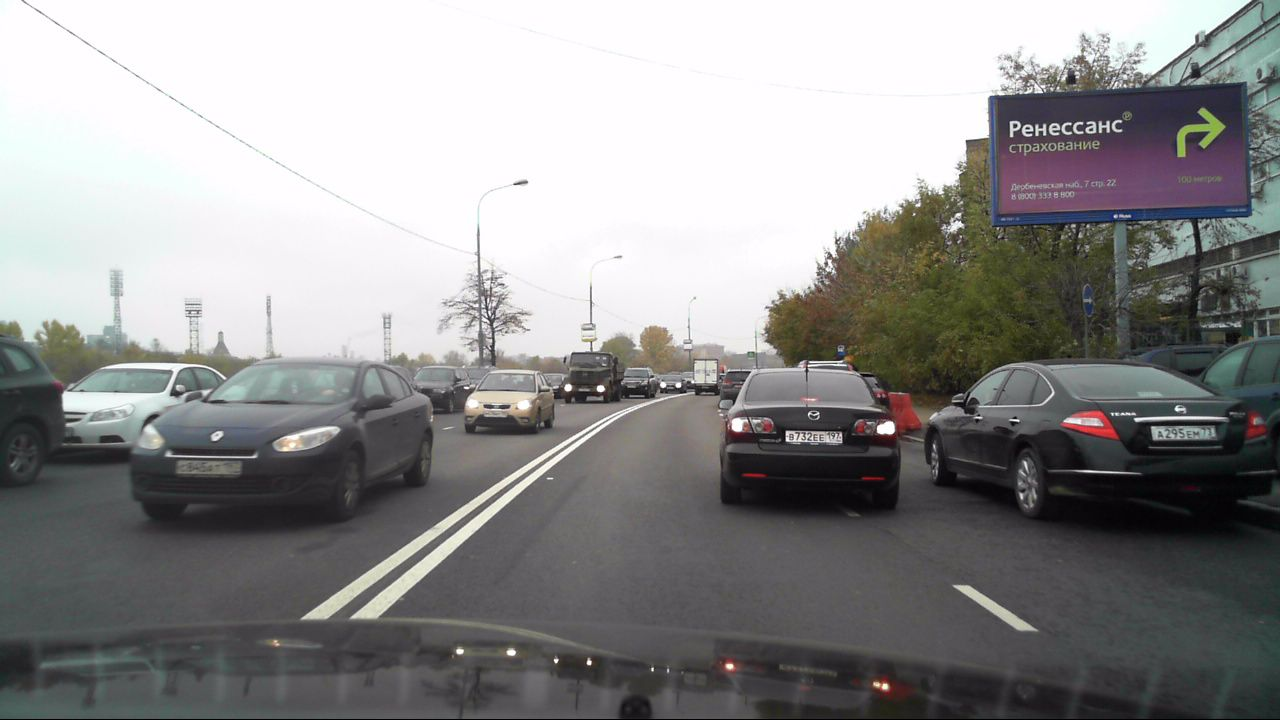Turn Right: (1082, 283, 1093, 317)
